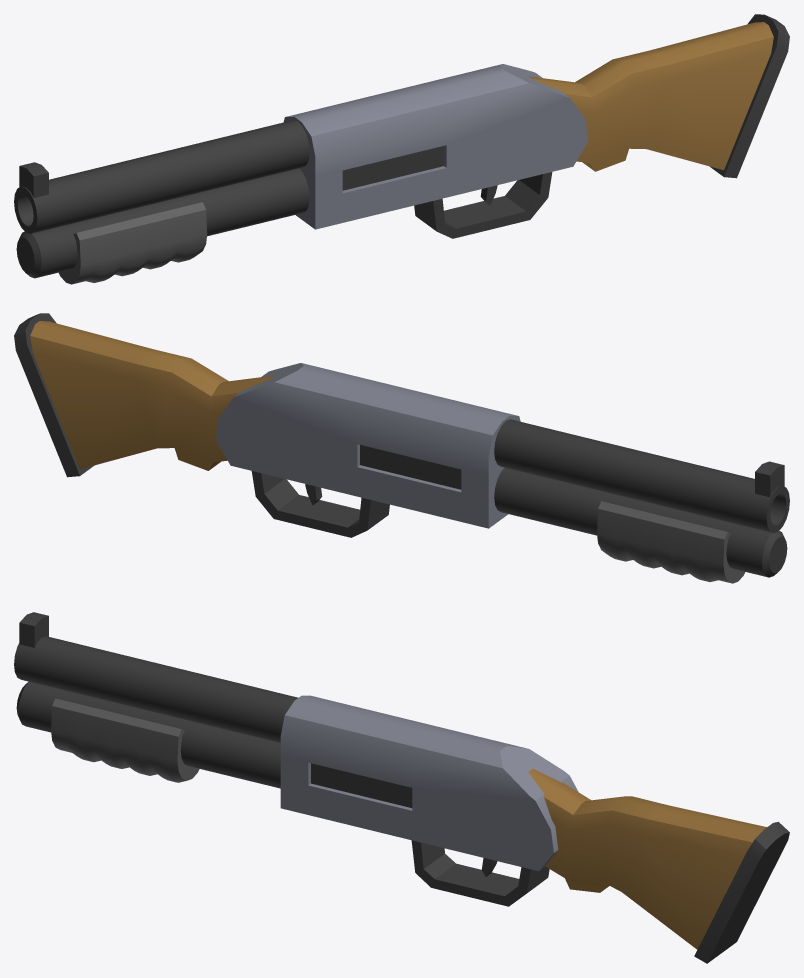
Rendered from Shotgun.glb.
The picture shows the model from 3 angles, top to bottom: view 1: azimuth 30°, elevation 25°; view 2: azimuth 150°, elevation 25°; view 3: azimuth 330°, elevation 25°; orthographic projection.
Parts seen in each view (by area): view 1: Shotgun; view 2: Shotgun; view 3: Shotgun.
Part boxes in pixels (x1,y1,x2,y2): Shotgun: [14, 14, 789, 284]; Shotgun: [14, 313, 789, 583]; Shotgun: [14, 612, 789, 963].
Size of the model in its own units: 1.55 by 0.3308 by 0.1224.
